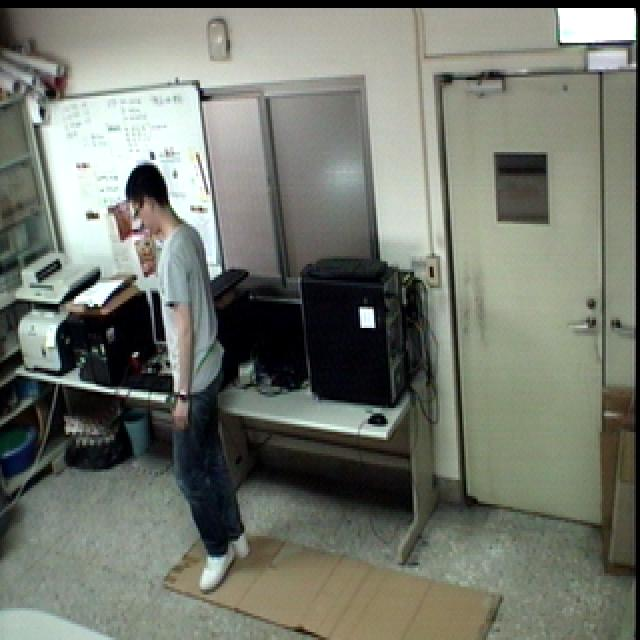stand: (117, 157, 260, 598)
